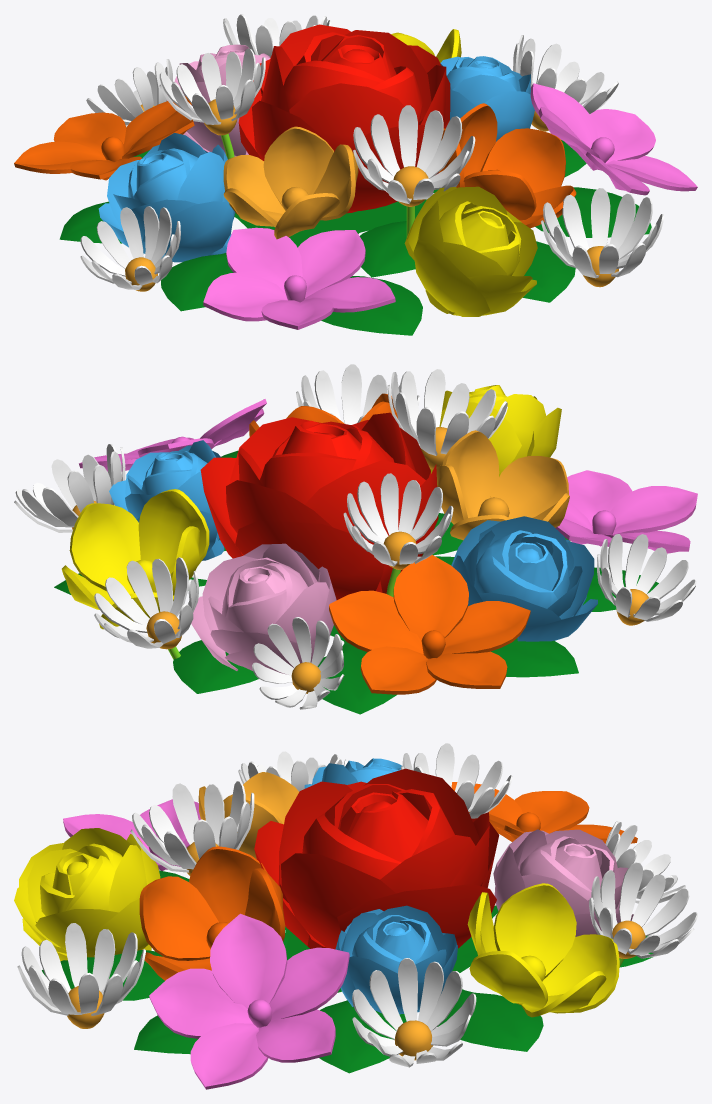
The model's file is Cake_ThemeFLowers_B.FBX.
3 renders of one model, top to bottom at view 1: azimuth 30°, elevation 25°; view 2: azimuth 150°, elevation 25°; view 3: azimuth 270°, elevation 25°, orthographic. The views are drawn at different scales.
Parts seen in each view (by area): view 1: Cake_ThemeFLowers_B; view 2: Cake_ThemeFLowers_B; view 3: Cake_ThemeFLowers_B.
Boxes of the visible parts, x1,y1,x2,y2 form: Cake_ThemeFLowers_B: [14, 14, 697, 335]; Cake_ThemeFLowers_B: [14, 364, 697, 714]; Cake_ThemeFLowers_B: [14, 743, 697, 1089].
Bounding box in the file's own units: 124524 × 37464 × 119599.
